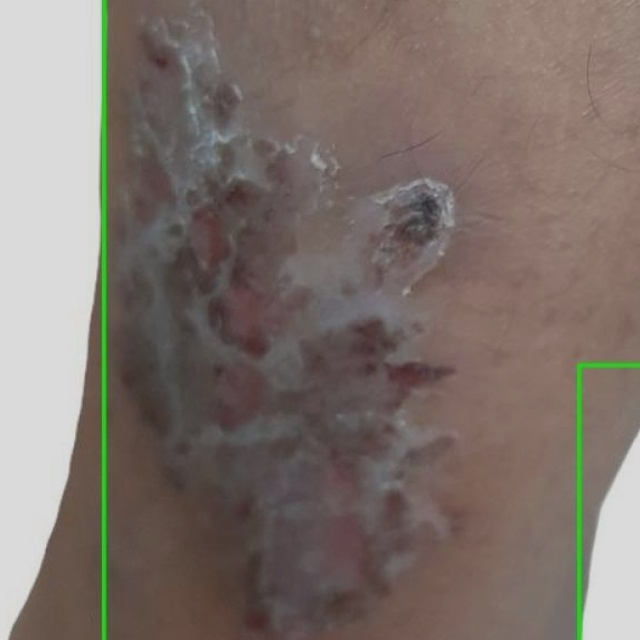Contact Dermatitis: (0, 0, 103, 639)
